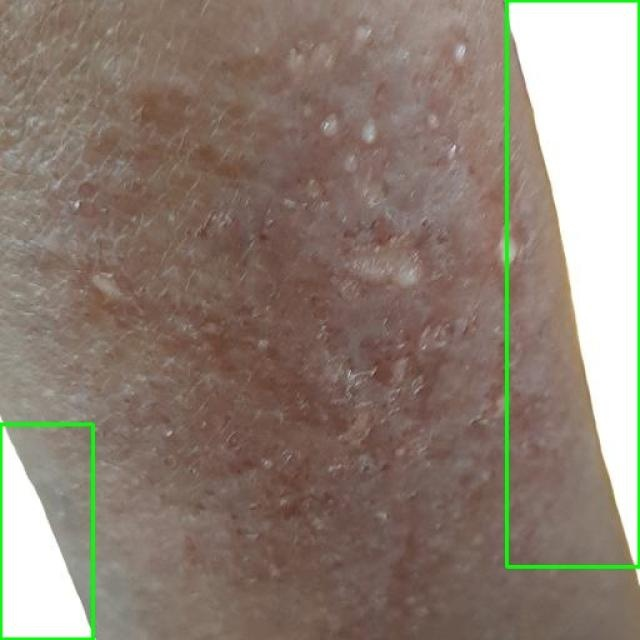Atopic Dermatitis: (506, 0, 639, 566), (0, 424, 92, 639)
